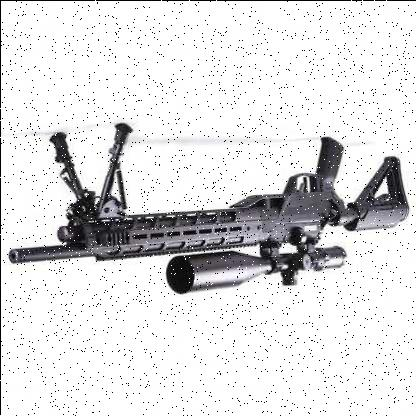rifle: (1, 88, 405, 292)
